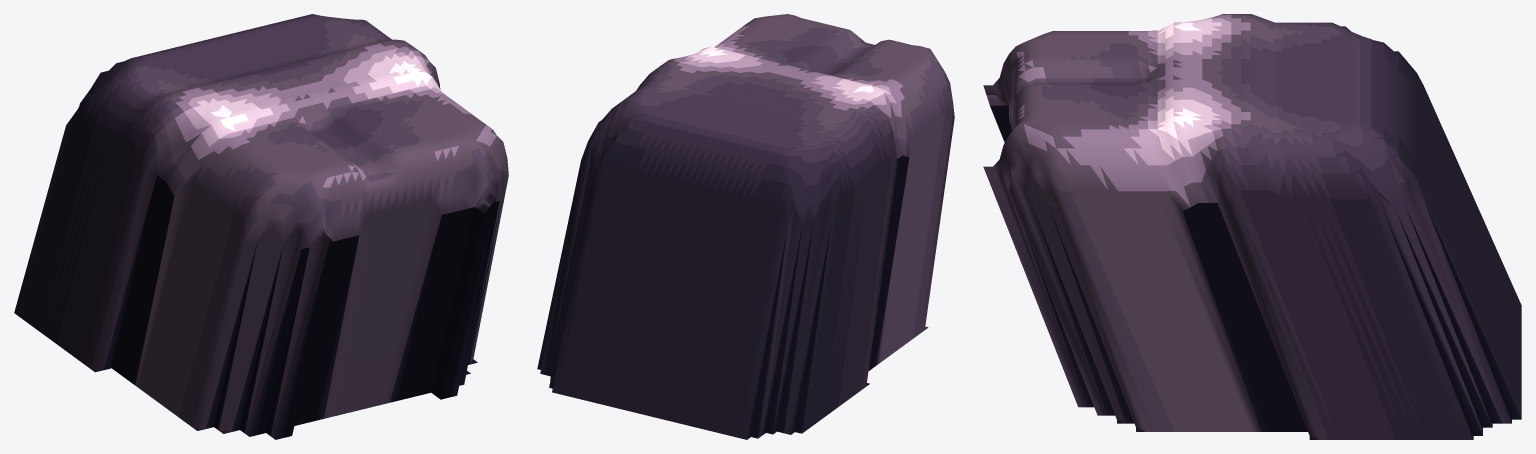
Rendered from deli_capsule.glb.
The picture shows the model from 3 angles, left to right: view 1: azimuth 30°, elevation 25°; view 2: azimuth 150°, elevation 25°; view 3: azimuth 270°, elevation 25°; orthographic projection. The views are drawn at different scales.
Parts seen in each view (by area): view 1: deli_capsule; view 2: deli_capsule; view 3: deli_capsule.
Boxes of the visible parts, box(x1,y1,x2,y2) form: deli_capsule: box(14, 14, 508, 439); deli_capsule: box(537, 14, 954, 439); deli_capsule: box(983, 14, 1521, 439).
Bounding box in the file's own units: 19 × 16.67 × 27.93.
